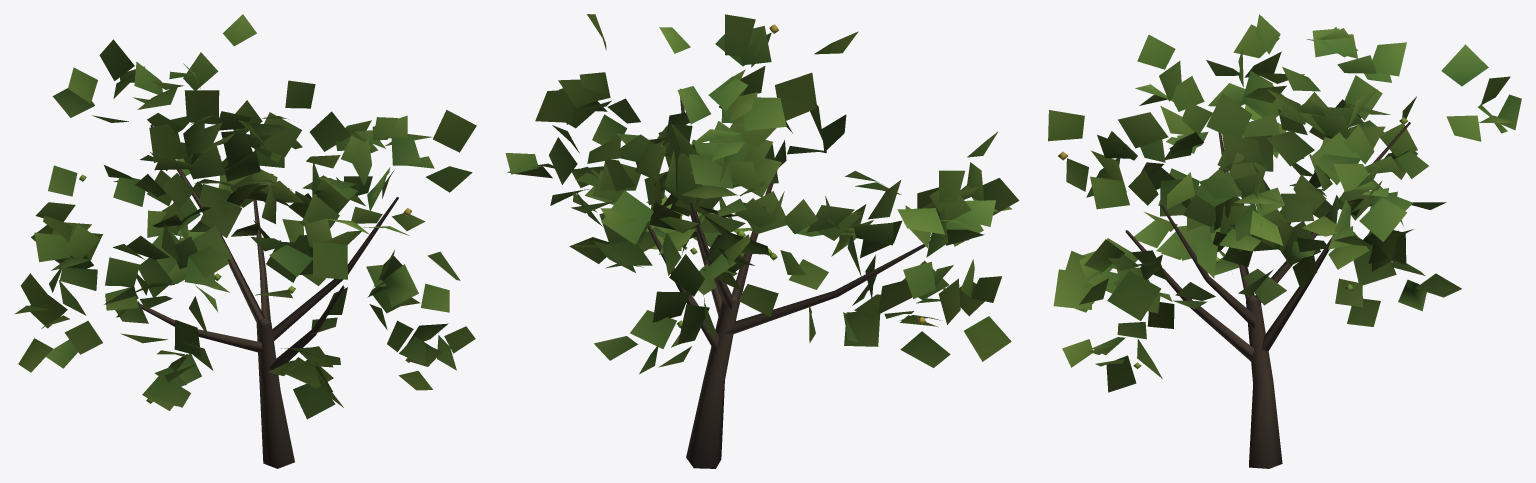
File: apple-b.lod2.glb
3 renders of one model, left to right at view 1: azimuth 30°, elevation 25°; view 2: azimuth 150°, elevation 25°; view 3: azimuth 270°, elevation 25°, orthographic. The views are drawn at different scales.
Bounding box in the file's own units: 6.04 × 5.62 × 5.5.
